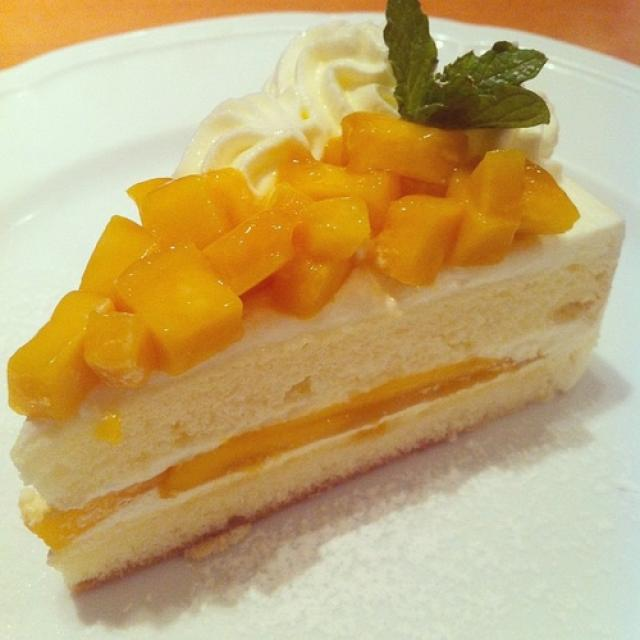蛋糕甜品: (15, 26, 617, 604)
